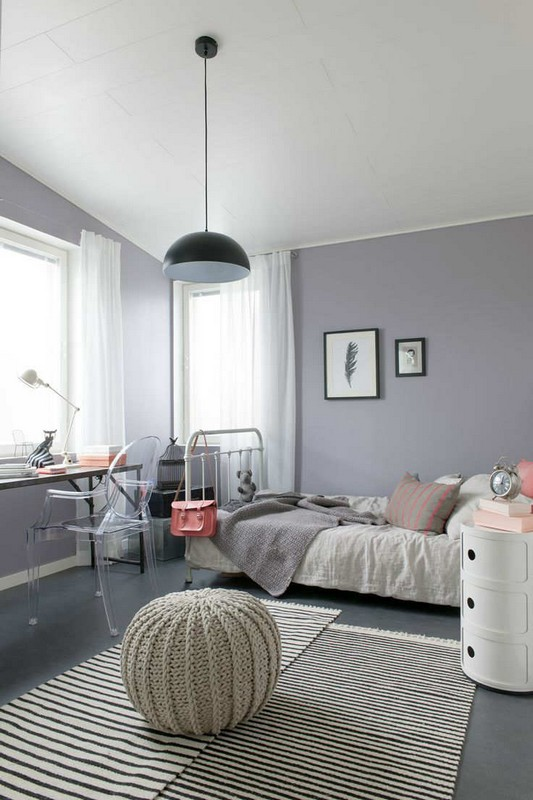bed: (183, 421, 486, 604)
chair: (25, 434, 156, 645)
lamp: (158, 88, 252, 308)
stool: (444, 506, 533, 698)
table: (1, 428, 151, 582)
